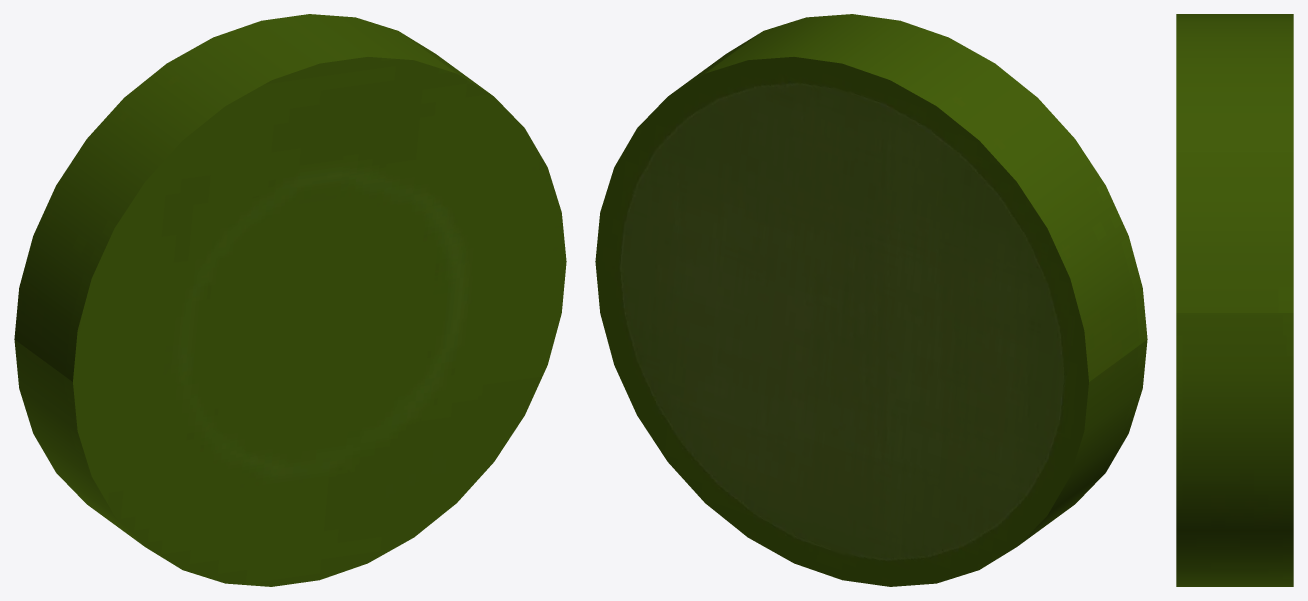
The model's file is body__mount_collar.glb.
The picture shows the model from 3 angles, left to right: view 1: azimuth 30°, elevation 25°; view 2: azimuth 150°, elevation 25°; view 3: azimuth 270°, elevation 25°; orthographic projection.
Visible parts, largest first — view 1: geometry_0; view 2: geometry_0; view 3: geometry_0.
Part boxes in pixels (x1=…): geometry_0: x1=14, y1=14, x2=566, y2=586; geometry_0: x1=595, y1=14, x2=1147, y2=586; geometry_0: x1=1176, y1=14, x2=1293, y2=586.
Bounding box in the file's own units: 0.078 × 0.078 × 0.016.
1 material, 1 textured.
